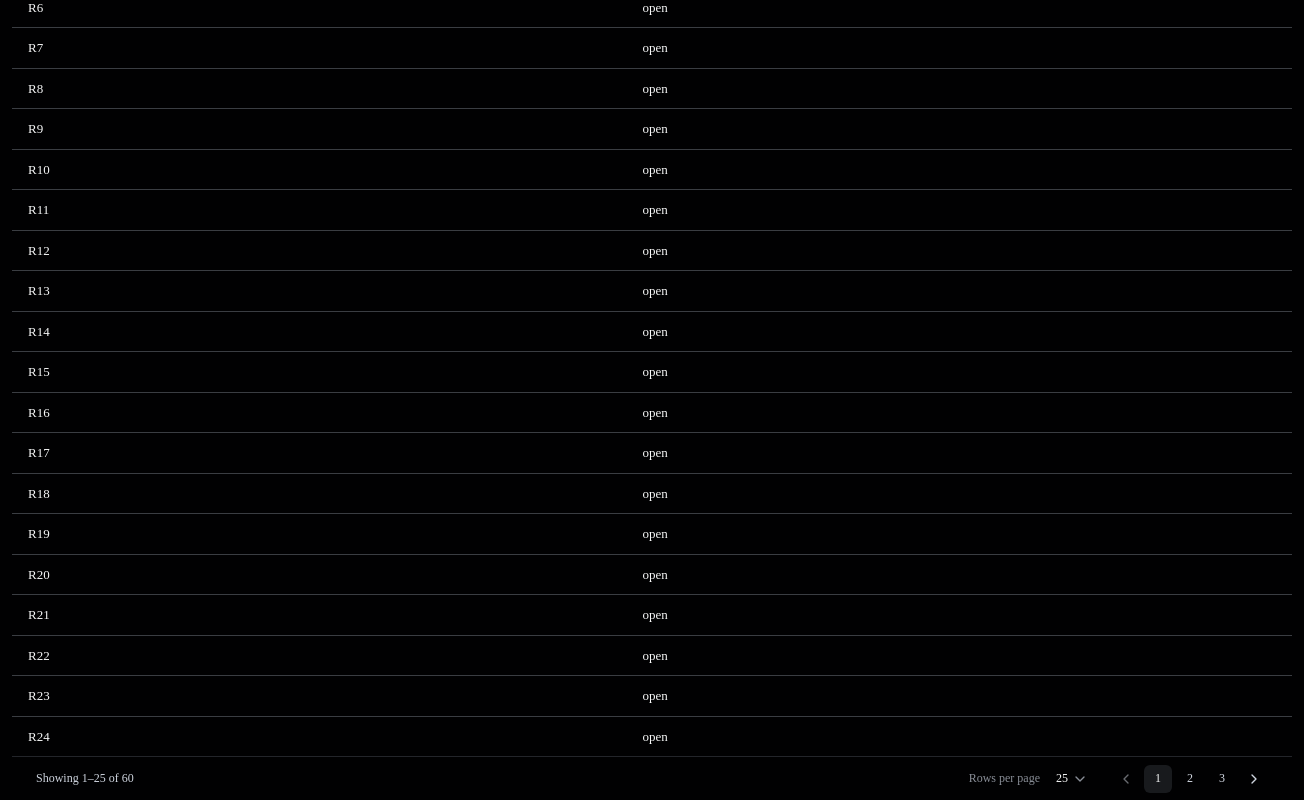
Test case: DataTable — pagination › renders numbered page buttons and jumps when clicked
(page scrolled)
Click the button named "Page 3" at (1222, 778), box [1208,764,1236,792]
(page scrolled)
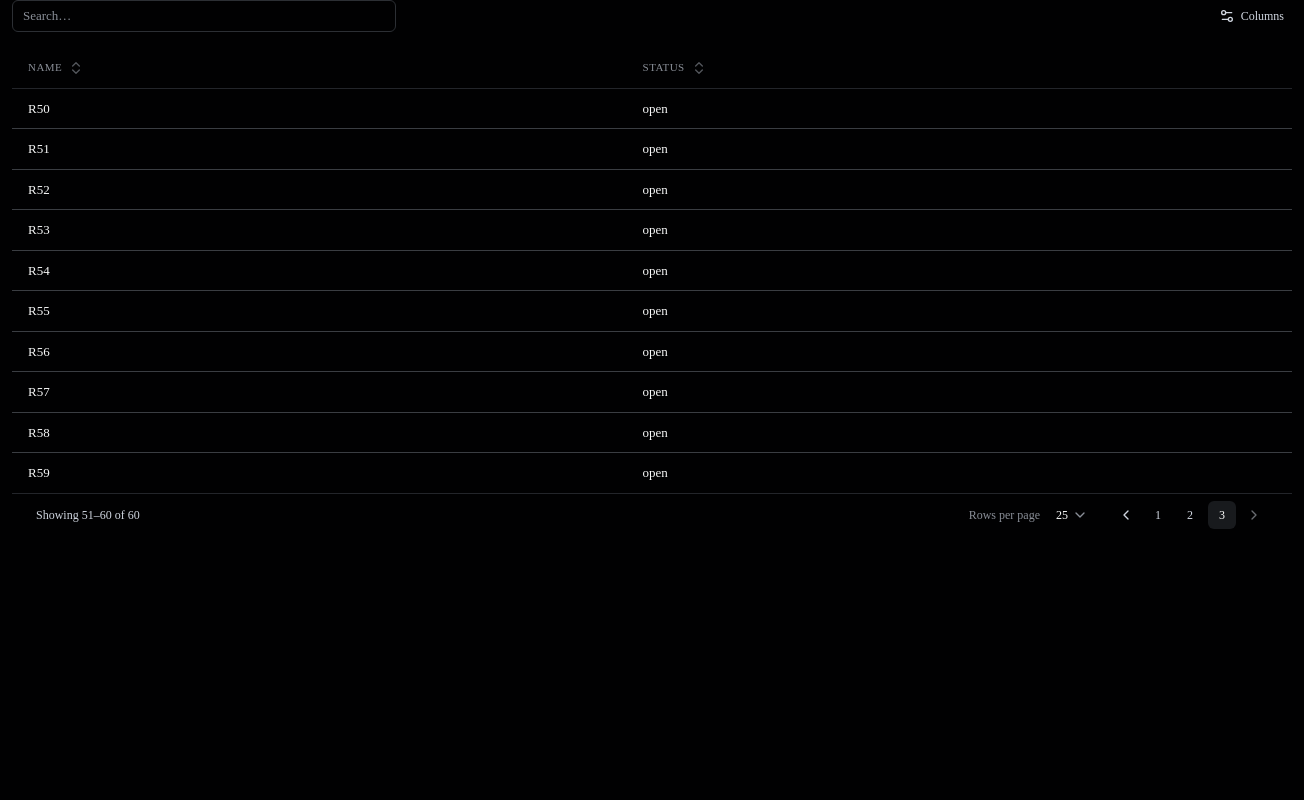
Expected: the text "Showing 51–60 of 60" is shown, [36,507,140,523]
